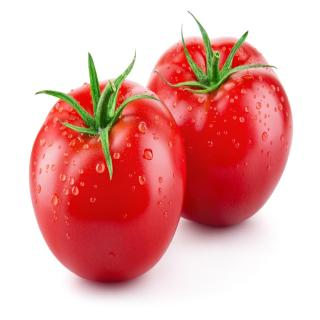Tomat: (20, 47, 192, 295), (142, 24, 297, 235)
